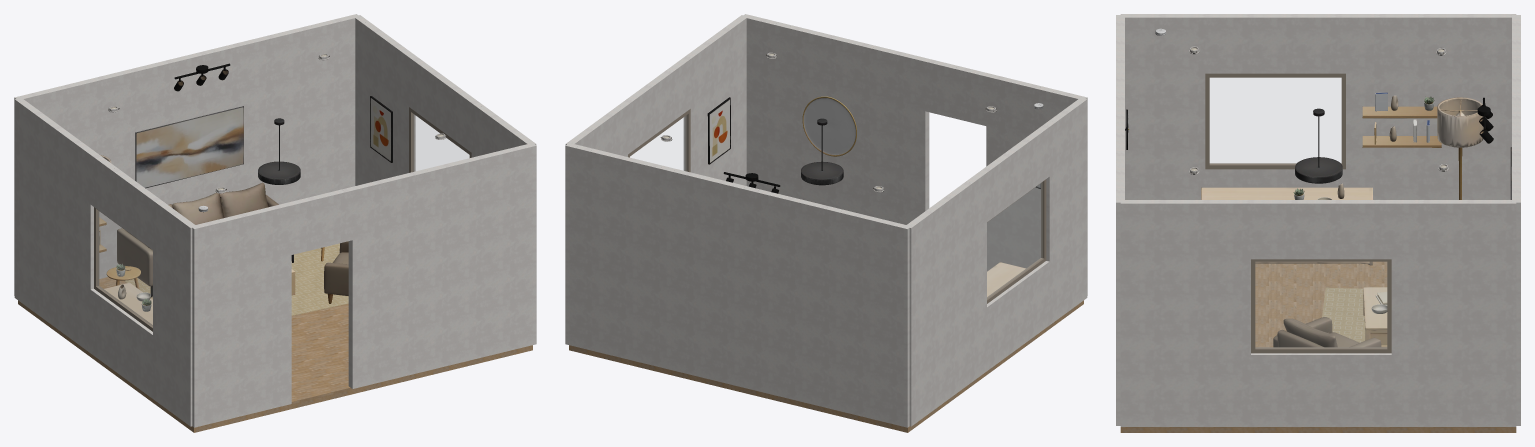
File: scene_web.glb
3 renders of one model, left to right at view 1: azimuth 30°, elevation 25°; view 2: azimuth 150°, elevation 25°; view 3: azimuth 270°, elevation 25°, orthographic. The views are drawn at different scales.
Parts seen in each view (by area): view 1: geometry_0.003, geometry_0, geometry_0.007, geometry_0.004, Mesh_0, geometry_0.015, glass.001, geometry_0.008, Mesh_0.001, glass, geometry_0.002, geometry_0.018 (+9 smaller); view 2: geometry_0.001, geometry_0.002, geometry_0.007, geometry_0.004, glass.001, Mesh_0, geometry_0.016, glass, geometry_0.003, geometry_0.019, geometry_0.022, frame.001 (+5 smaller); view 3: geometry_0.005, geometry_0.006, glass, glass.001, Mesh_0, geometry_0.014, frame, geometry_0.012, frame.001, geometry_0.001, geometry_0.003, geometry_0.010 (+10 smaller).
Part boxes in pixels (x1,y1,x2,y2): geometry_0.003: [192, 144, 536, 427]; geometry_0: [17, 15, 359, 278]; geometry_0.007: [14, 99, 192, 426]; geometry_0.004: [355, 17, 530, 185]; Mesh_0: [18, 277, 532, 432]; geometry_0.015: [135, 106, 243, 188]; glass.001: [98, 211, 152, 325]; geometry_0.008: [117, 182, 293, 297]; Mesh_0.001: [124, 243, 348, 315]; glass: [413, 114, 469, 171]; geometry_0.002: [191, 143, 533, 387]; geometry_0.018: [370, 96, 392, 162]; geometry_0.001: [565, 144, 909, 427]; geometry_0.002: [742, 15, 1084, 271]; geometry_0.007: [909, 99, 1087, 426]; geometry_0.004: [571, 17, 746, 185]; glass.001: [987, 183, 1042, 297]; Mesh_0: [569, 300, 1083, 432]; geometry_0.016: [802, 96, 856, 156]; glass: [630, 116, 686, 170]; geometry_0.003: [743, 14, 1087, 295]; geometry_0.019: [707, 97, 730, 164]; geometry_0.022: [801, 118, 843, 185]; frame.001: [987, 179, 1046, 303]; geometry_0.005: [1120, 201, 1516, 426]; geometry_0.006: [1125, 16, 1511, 199]; glass: [1255, 262, 1386, 347]; glass.001: [1210, 78, 1341, 163]; Mesh_0: [1120, 261, 1516, 432]; geometry_0.014: [1201, 187, 1372, 265]; frame: [1251, 259, 1391, 353]; geometry_0.012: [1437, 97, 1483, 199]; frame.001: [1205, 73, 1345, 169]; geometry_0.001: [1516, 15, 1520, 425]; geometry_0.003: [1116, 15, 1120, 425]; geometry_0.010: [1273, 317, 1381, 347].
Bounding box in the file's own units: 5.1 × 2.9 × 4.6.
32 materials, 30 textured.
